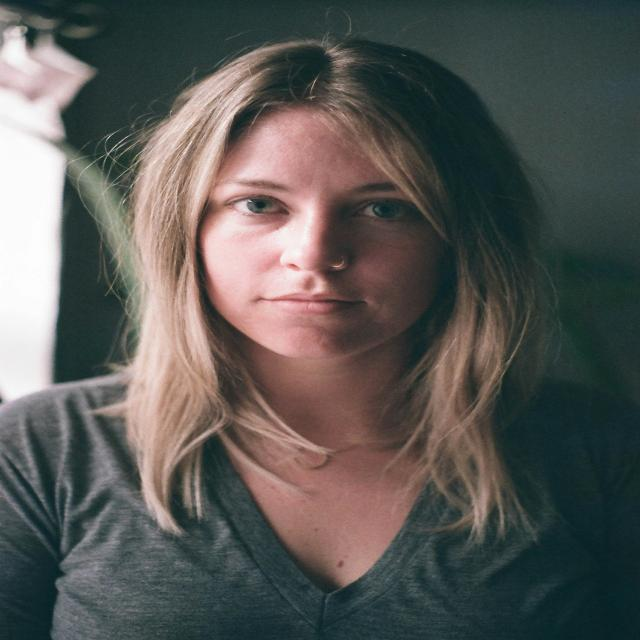human: (0, 44, 640, 620)
